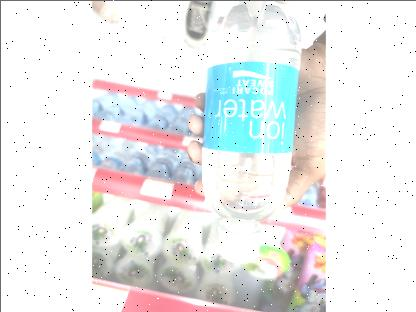Plastic Bottle: (190, 0, 304, 266)
